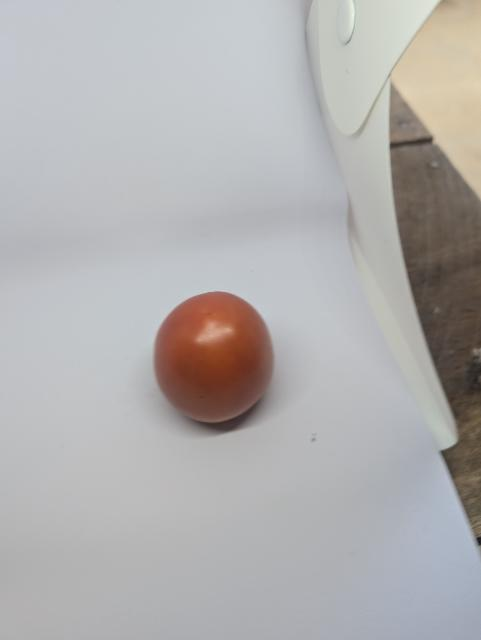red: (150, 284, 285, 438)
